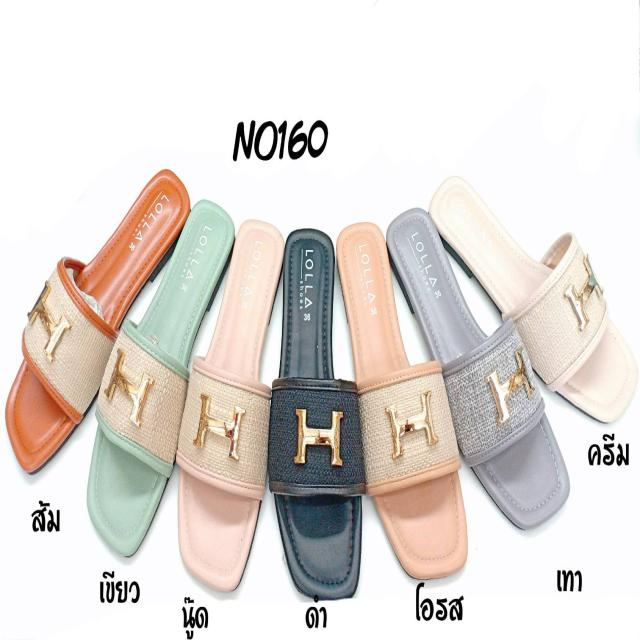black: (279, 229, 359, 591)
cream: (430, 178, 632, 420)
green: (89, 200, 231, 553)
grey: (391, 213, 571, 523)
nood: (182, 217, 286, 582)
orange: (2, 171, 190, 464)
orot: (340, 225, 470, 580)
